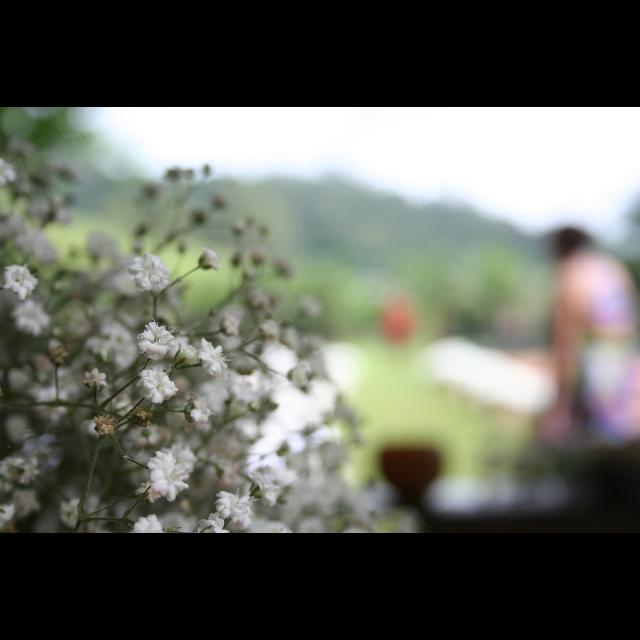Flower: (1, 161, 416, 531)
